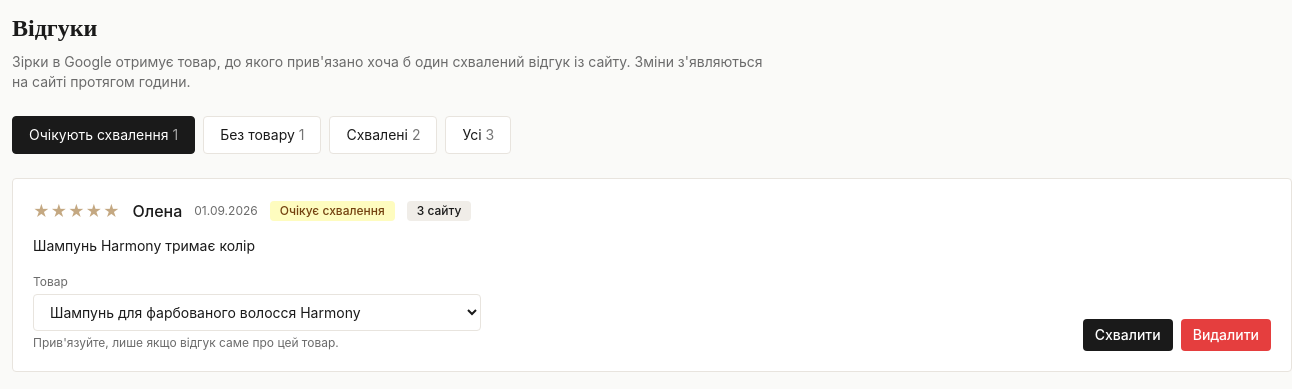
Test: адмінка: відгуки › «Схвалити» публікує відгук і прибирає його з черги
Click the button "Схвалити" at (1128, 335), box [1083,319,1173,351]
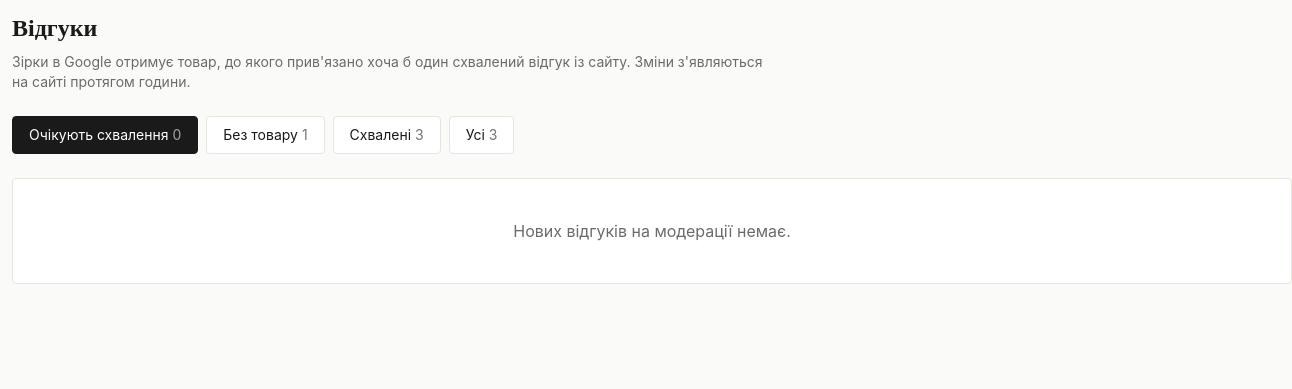
Result: the text "Нових відгуків на модерації немає." is shown at [12,178,1291,284]
